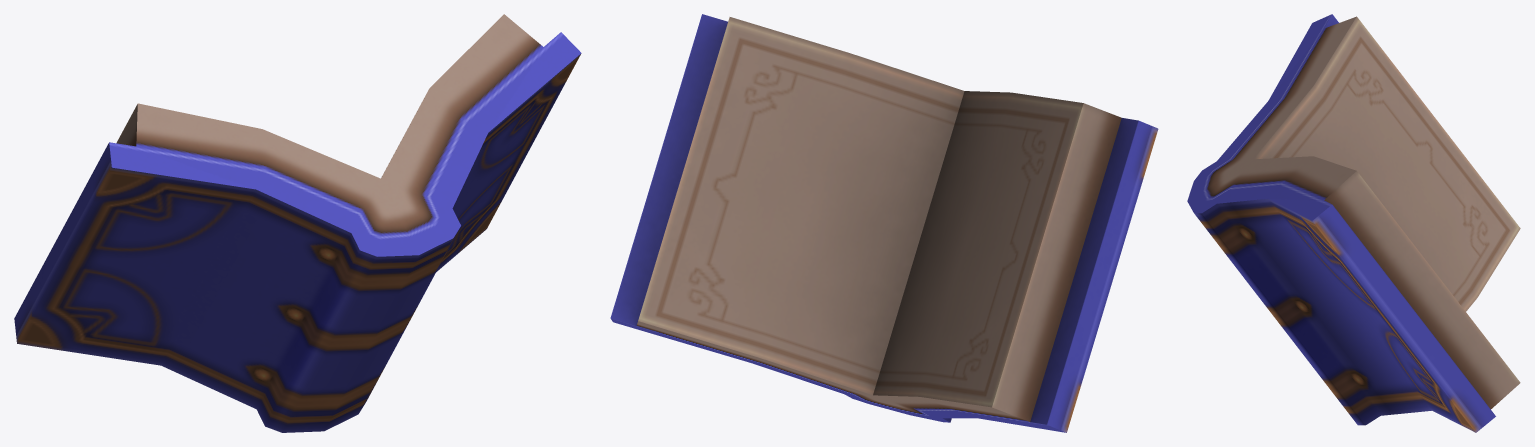
Rendered from MageTower_SpellBook.FBX.
3 views of the same model, side by side, from view 1: azimuth 30°, elevation 25°; view 2: azimuth 150°, elevation 25°; view 3: azimuth 270°, elevation 25° (orthographic). The views are drawn at different scales.
Parts seen in each view (by area): view 1: MageTower_SpellBook; view 2: MageTower_SpellBook; view 3: MageTower_SpellBook.
Part boxes in pixels (bbox=[...]): MageTower_SpellBook: bbox=[14, 14, 581, 432]; MageTower_SpellBook: bbox=[610, 14, 1158, 432]; MageTower_SpellBook: bbox=[1187, 14, 1520, 432].
Size of the model in its own units: 20.02 by 15.08 by 14.25.
